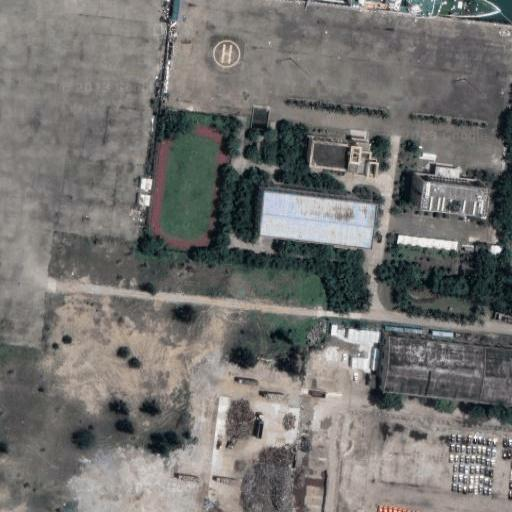building: (255, 185, 368, 240), (414, 173, 484, 211), (325, 318, 380, 343), (306, 134, 347, 162), (398, 234, 459, 251), (344, 138, 375, 169), (251, 105, 271, 130), (348, 349, 371, 370), (347, 122, 366, 141), (435, 166, 459, 177), (372, 348, 382, 370), (432, 330, 453, 338), (386, 324, 404, 333), (403, 327, 423, 335), (369, 372, 379, 386), (336, 237, 356, 243), (462, 268, 472, 278), (489, 246, 500, 254), (473, 243, 480, 252), (464, 246, 474, 251)
